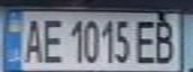0: (81, 16, 100, 63)
1: (63, 16, 84, 63), (100, 17, 118, 64)
5: (115, 16, 136, 64)
A: (18, 15, 45, 64)
B: (151, 16, 178, 65)
E: (133, 16, 160, 65), (39, 15, 66, 64)
